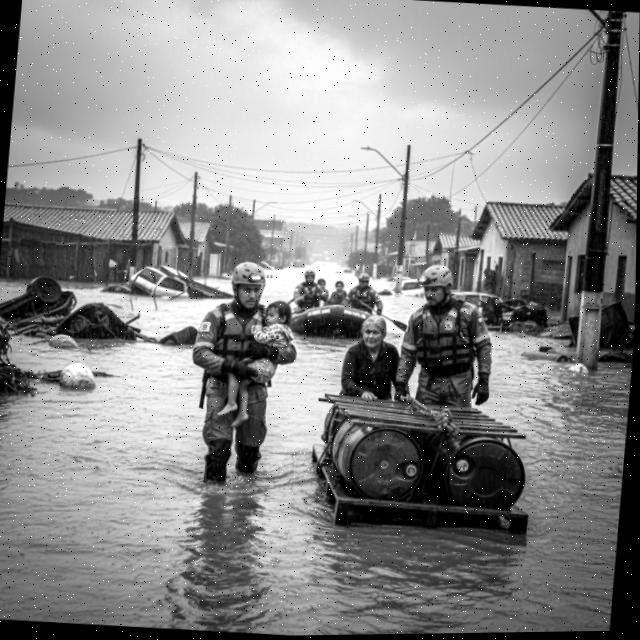civilian: (214, 293, 298, 433), (340, 309, 420, 409), (327, 278, 348, 308), (314, 277, 331, 307)
rescuer: (178, 247, 306, 491), (389, 260, 503, 419), (342, 267, 388, 318), (287, 263, 331, 314)
